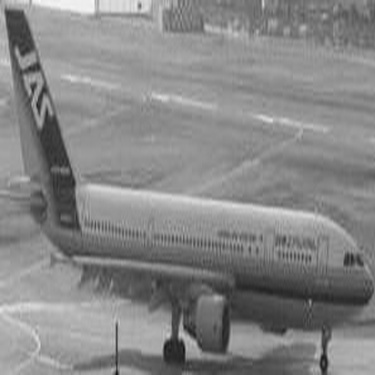airplane: (3, 2, 370, 371)
